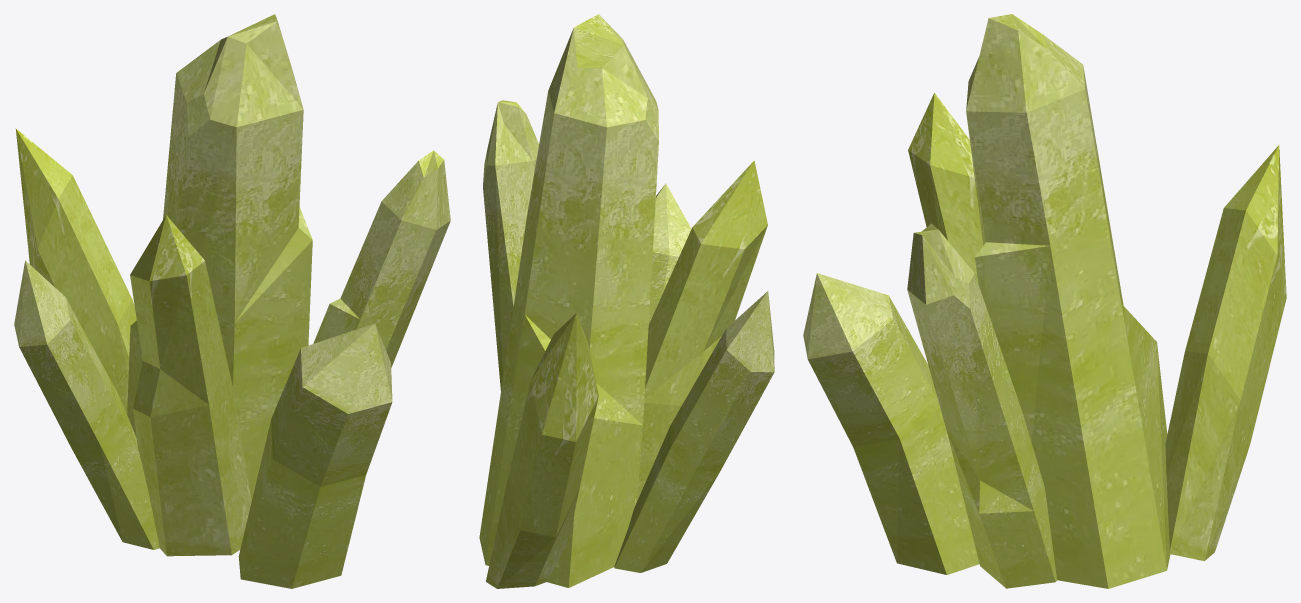
The model's file is GS_KWAS_SNOW.glb.
3 renders of one model, left to right at view 1: azimuth 30°, elevation 25°; view 2: azimuth 150°, elevation 25°; view 3: azimuth 270°, elevation 25°, orthographic. The views are drawn at different scales.
Visible parts, largest first — view 1: GS_KWAS_SNOW; view 2: GS_KWAS_SNOW; view 3: GS_KWAS_SNOW.
Boxes of the visible parts, box(x1,y1,x2,y2) form: GS_KWAS_SNOW: box(14, 14, 450, 588); GS_KWAS_SNOW: box(479, 14, 774, 588); GS_KWAS_SNOW: box(803, 14, 1286, 588).
Size of the model in its own units: 0.2387 by 0.3299 by 0.2689.
2 materials, 2 textured.
